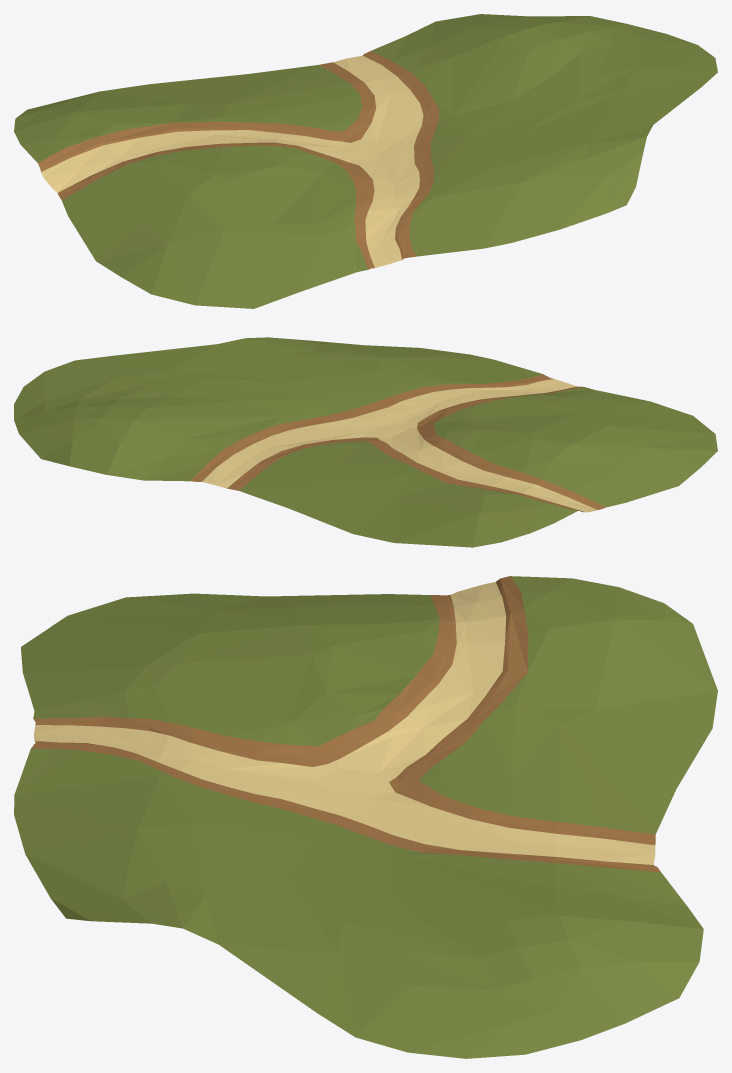
Rendered from Terrain_Road_Intersection-01.FBX.
The picture shows the model from 3 angles, top to bottom: view 1: azimuth 30°, elevation 25°; view 2: azimuth 150°, elevation 25°; view 3: azimuth 270°, elevation 25°; orthographic projection. The views are drawn at different scales.
Parts seen in each view (by area): view 1: Terrain_Road_Intersection-01; view 2: Terrain_Road_Intersection-01; view 3: Terrain_Road_Intersection-01.
Boxes of the visible parts, x1=… form: Terrain_Road_Intersection-01: x1=14, y1=14, x2=717, y2=308; Terrain_Road_Intersection-01: x1=14, y1=337, x2=717, y2=547; Terrain_Road_Intersection-01: x1=14, y1=576, x2=717, y2=1058.
Bounding box in the file's own units: 5549 × 308 × 3566.
Materials: 1 (1 with a texture image).
